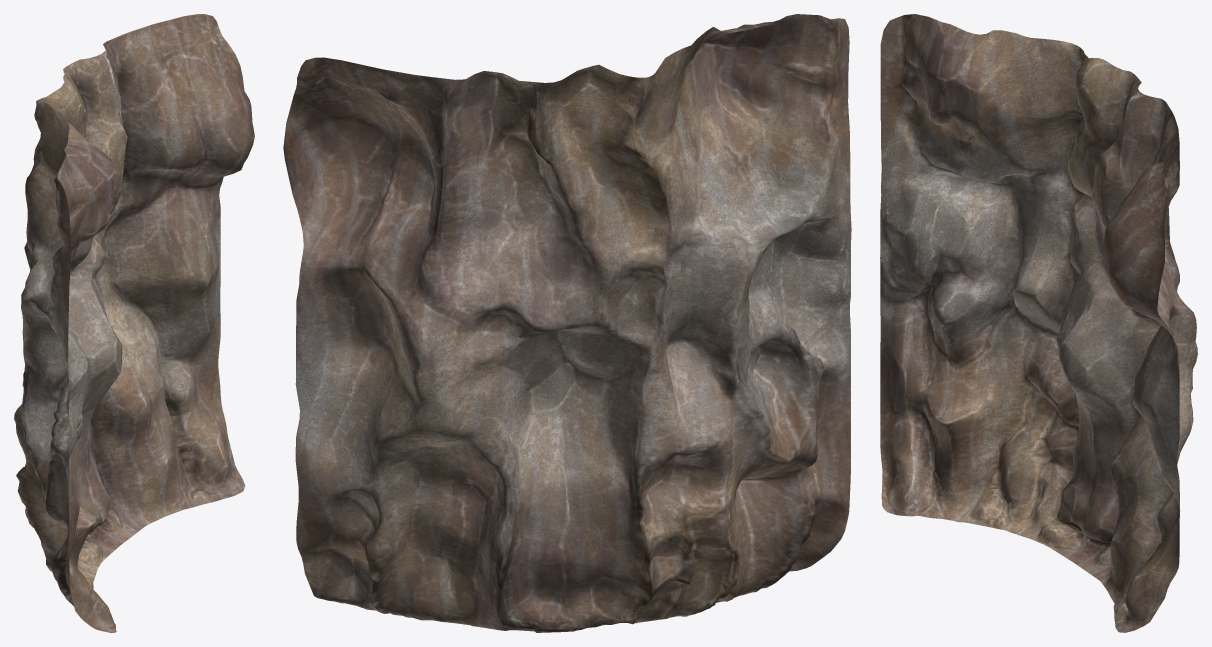
File: cave_ravine_wall_sand_01_concave.dae
The picture shows the model from 3 angles, left to right: view 1: azimuth 30°, elevation 25°; view 2: azimuth 150°, elevation 25°; view 3: azimuth 270°, elevation 25°; orthographic projection. The views are drawn at different scales.
Visible parts, largest first — view 1: wall_1_concave; view 2: wall_1_concave; view 3: wall_1_concave.
Boxes of the visible parts, x1,y1,x2,y2 form: wall_1_concave: (14, 14, 254, 632); wall_1_concave: (283, 14, 851, 632); wall_1_concave: (880, 14, 1197, 632).
Size of what is drawn, in the model's own units: 2.87 by 4.11 by 2.43.
